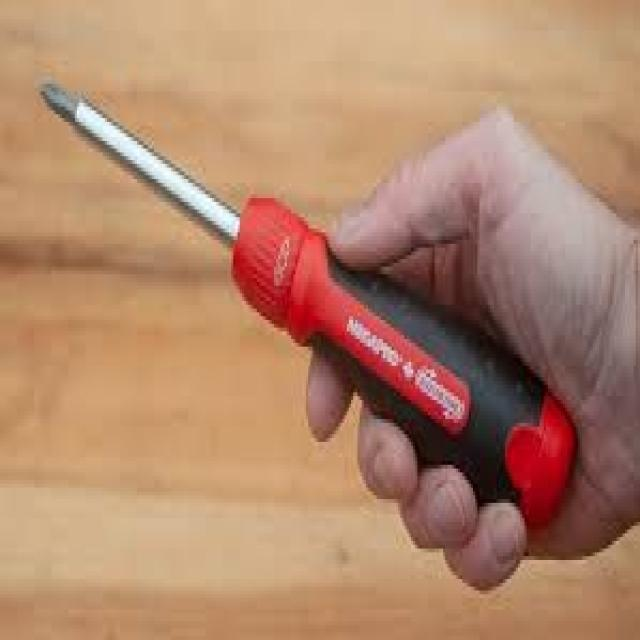screw driver: (23, 43, 613, 552)
